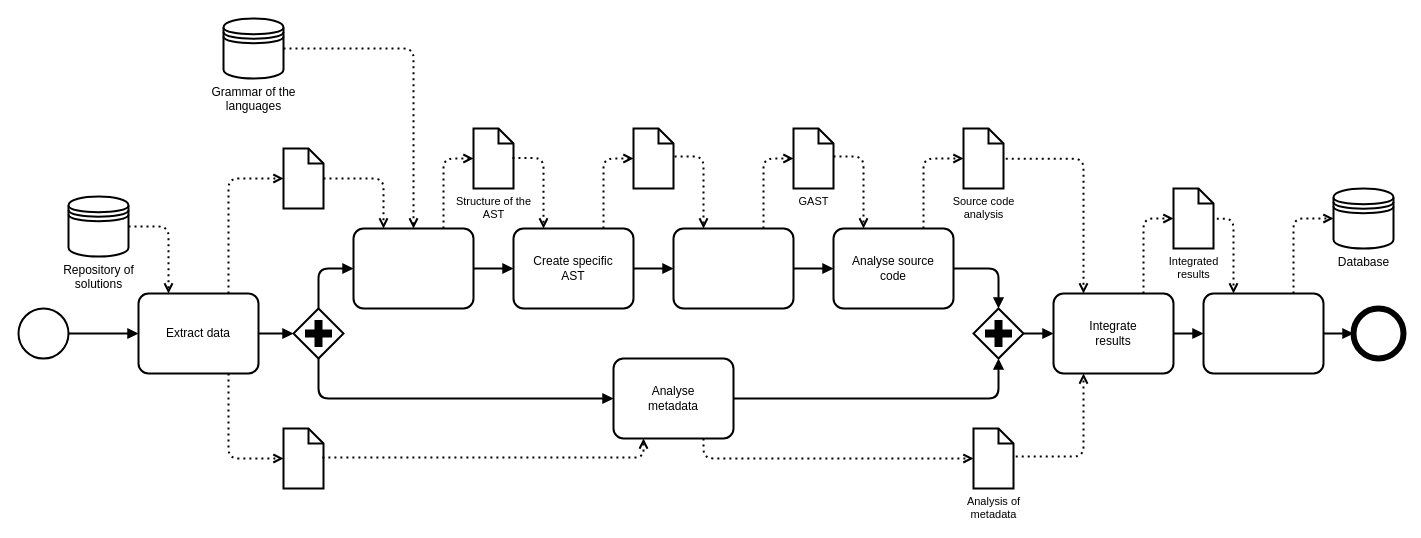
Some shapes in this 1421 by 538 pixel diagram are drawn without their labels. Here are the shapes that lost their labels. From the top down, the centre of each, then its label:
point (303, 178): Source code
point (653, 158): Specific AST
point (413, 268): Parse the source code
point (733, 268): Map AST to GAST
point (1263, 333): Store results
point (303, 458): Metadata
